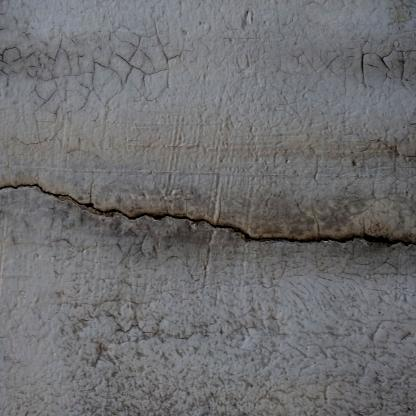crack: (0, 184, 416, 246)
